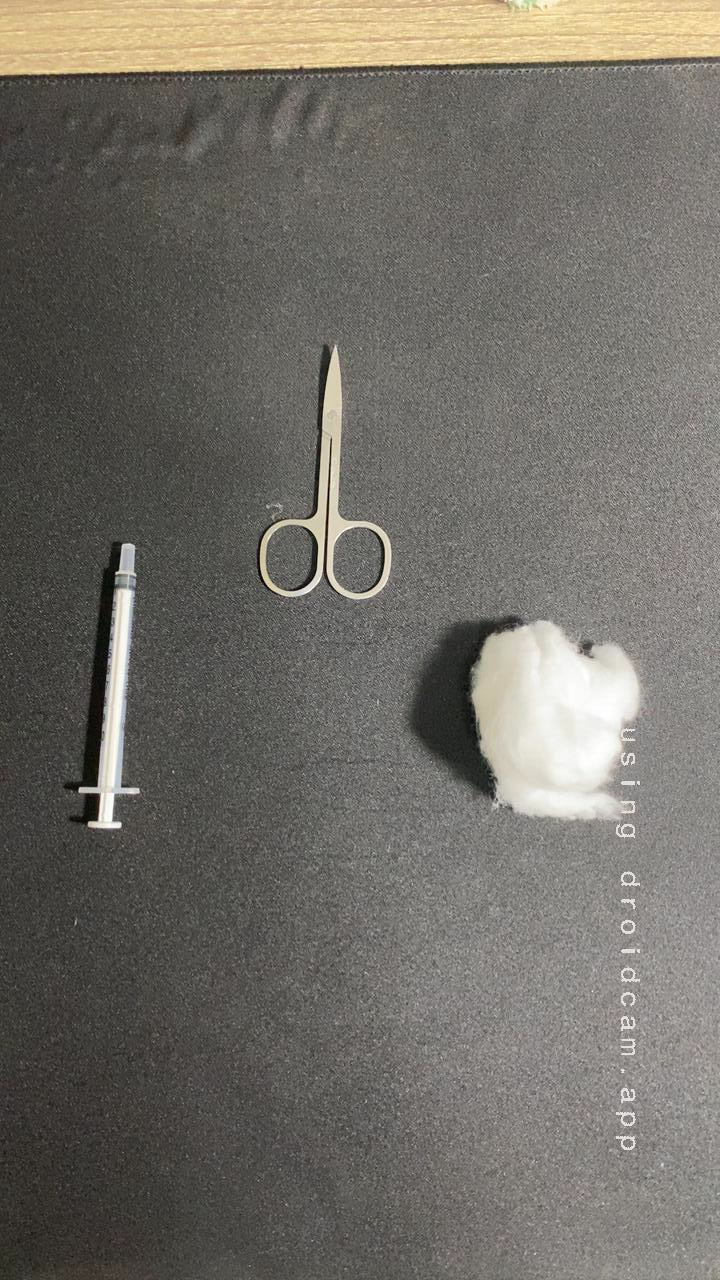cotton: (440, 598, 671, 855)
scissor: (234, 330, 414, 615)
syringe: (42, 526, 180, 845)
